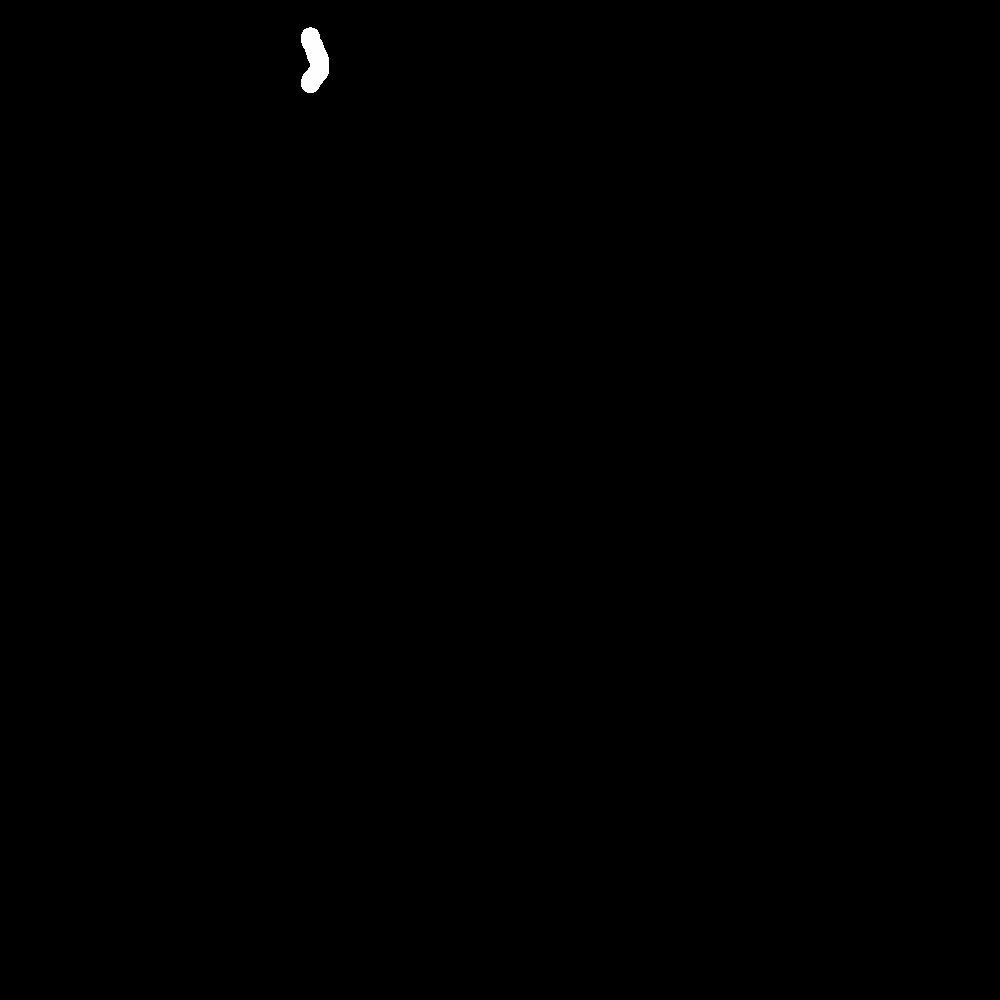illegal: (296, 28, 336, 95)
